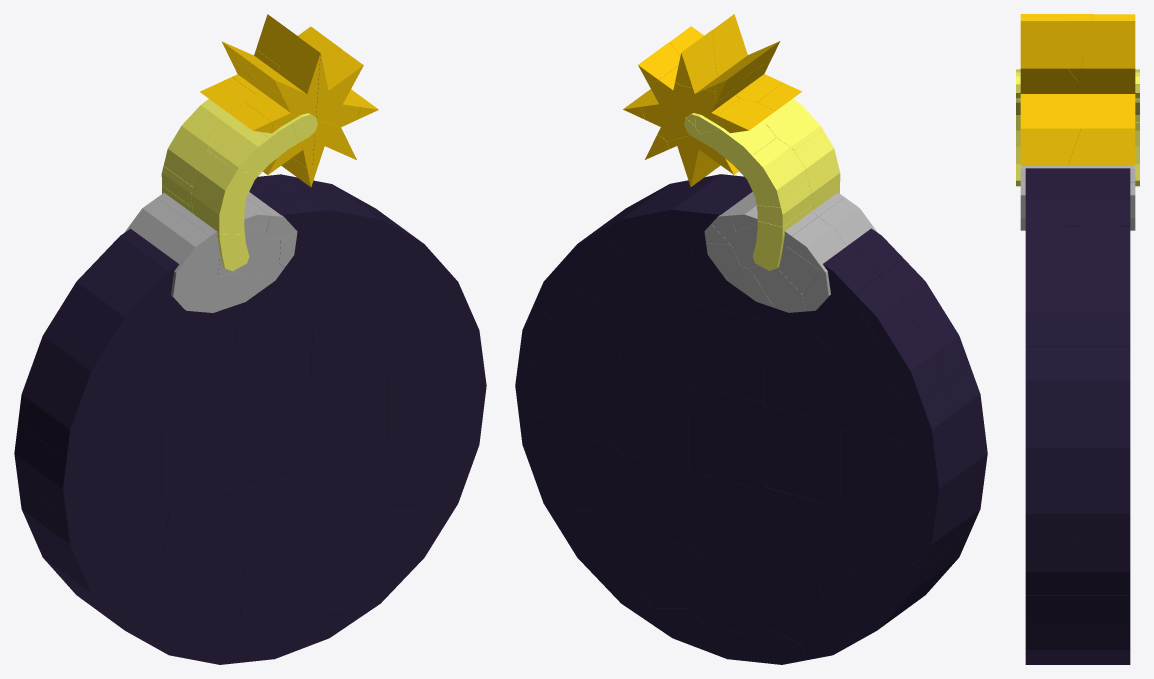
File: bomb.fbx
The picture shows the model from 3 angles, left to right: view 1: azimuth 30°, elevation 25°; view 2: azimuth 150°, elevation 25°; view 3: azimuth 270°, elevation 25°; orthographic projection. The views are drawn at different scales.
Visible parts, largest first — view 1: bomb.001_cell.036, bomb.001_cell.035, bomb.001_cell.037, bomb.001_cell.041, bomb.001_cell.031, bomb.001_cell.042, bomb.001_cell.030, bomb.001_cell.040, bomb.001_cell.032, bomb.001_cell.034, bomb.001_cell.038, bomb.001_cell.046 (+60 smaller); view 2: bomb.001_cell.085, bomb.001_cell.080, bomb.001_cell.090, bomb.001_cell.084, bomb.001_cell.086, bomb.001_cell.091, bomb.001_cell.081, bomb.001_cell.079, bomb.001_cell.089, bomb.001_cell.075, bomb.001_cell.095, bomb.001_cell.087 (+64 smaller); view 3: bomb.001_cell.020, bomb.001_cell.069, bomb.001_cell.019, bomb.001_cell.068, bomb.001_cell.021, bomb.001_cell.070, bomb.001_cell.018, bomb.001_cell.067, bomb.001_cell.022, bomb.001_cell.071, bomb.003_cell.012, bomb.001_cell.066 (+25 smaller).
Boxes of the visible parts, x1,y1,x2,y2 form: bomb.001_cell.036: (236, 385, 313, 489); bomb.001_cell.035: (312, 369, 388, 468); bomb.001_cell.037: (161, 406, 235, 505); bomb.001_cell.041: (236, 472, 313, 570); bomb.001_cell.031: (236, 304, 313, 402); bomb.001_cell.042: (162, 487, 238, 582); bomb.001_cell.030: (310, 292, 387, 387); bomb.001_cell.040: (310, 454, 387, 544); bomb.001_cell.032: (162, 330, 238, 419); bomb.001_cell.034: (388, 358, 455, 443); bomb.001_cell.038: (94, 431, 160, 516); bomb.001_cell.046: (239, 555, 309, 635); bomb.001_cell.085: (688, 385, 765, 489); bomb.001_cell.080: (613, 369, 688, 467); bomb.001_cell.090: (766, 406, 840, 505); bomb.001_cell.084: (688, 304, 765, 402); bomb.001_cell.086: (688, 472, 765, 569); bomb.001_cell.091: (763, 487, 839, 582); bomb.001_cell.081: (614, 454, 691, 544); bomb.001_cell.079: (614, 292, 691, 387); bomb.001_cell.089: (763, 330, 839, 419); bomb.001_cell.075: (546, 358, 616, 443); bomb.001_cell.095: (841, 431, 907, 516); bomb.001_cell.087: (692, 555, 762, 635); bomb.001_cell.020: (1025, 346, 1077, 413); bomb.001_cell.069: (1078, 346, 1130, 413); bomb.001_cell.019: (1025, 414, 1077, 480); bomb.001_cell.068: (1078, 414, 1130, 480); bomb.001_cell.021: (1025, 282, 1077, 346); bomb.001_cell.070: (1078, 282, 1130, 346); bomb.001_cell.018: (1025, 481, 1077, 542); bomb.001_cell.067: (1078, 481, 1130, 542); bomb.001_cell.022: (1025, 226, 1077, 281); bomb.001_cell.071: (1078, 226, 1130, 281); bomb.003_cell.012: (1020, 21, 1083, 68); bomb.001_cell.066: (1078, 542, 1130, 594).
Bounding box in the file's own units: 553 × 745 × 130.
